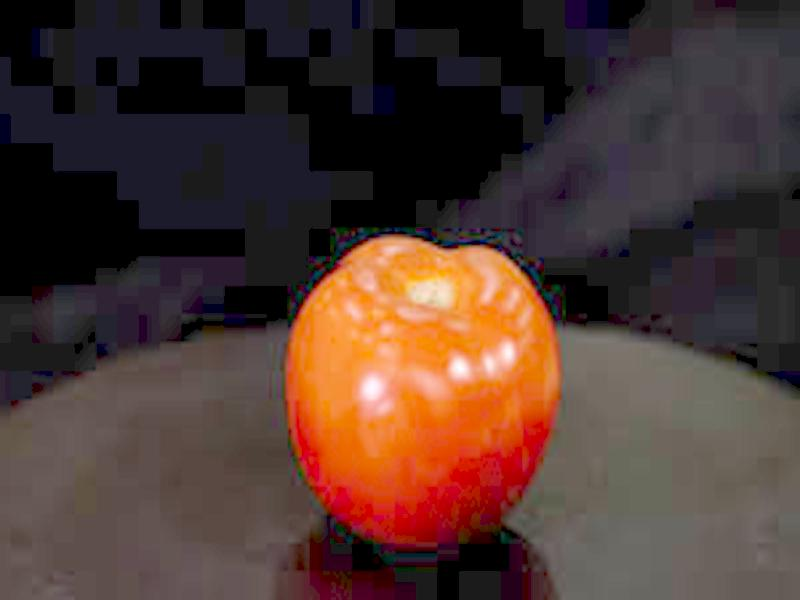Tomato: (282, 232, 562, 546)
